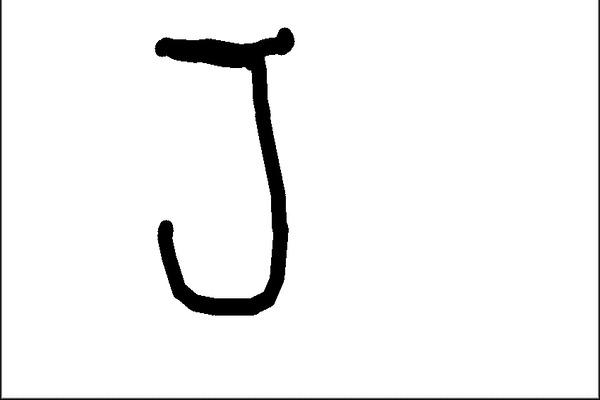J: (144, 24, 303, 322)
